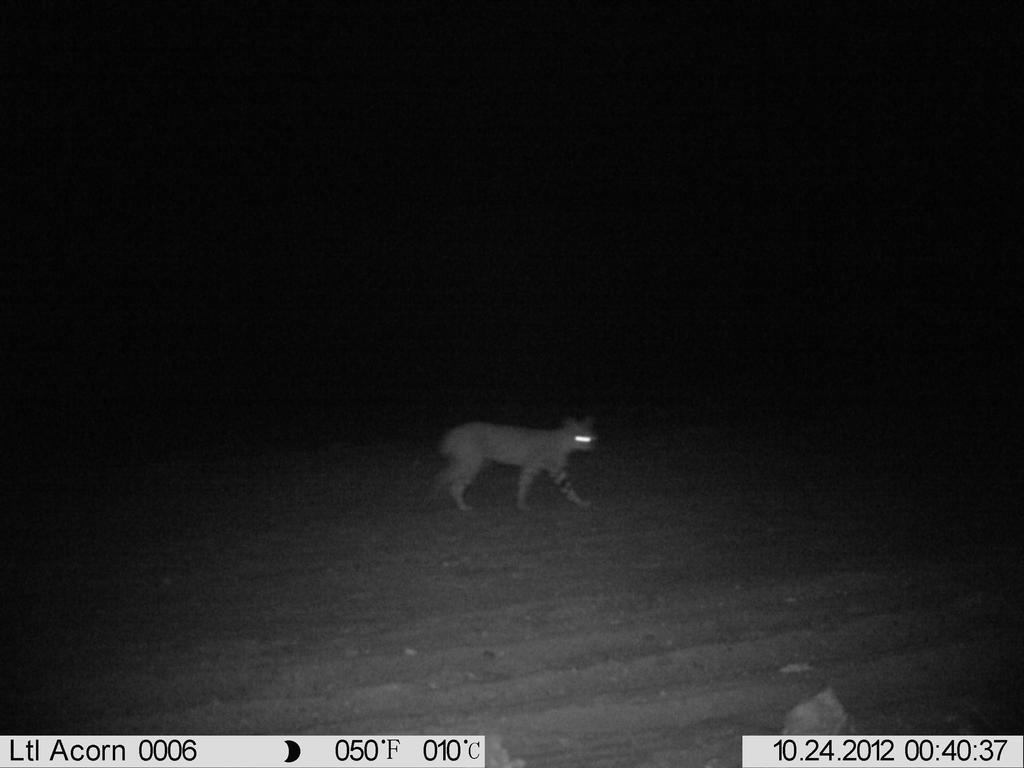bobcat: (433, 407, 612, 521)
